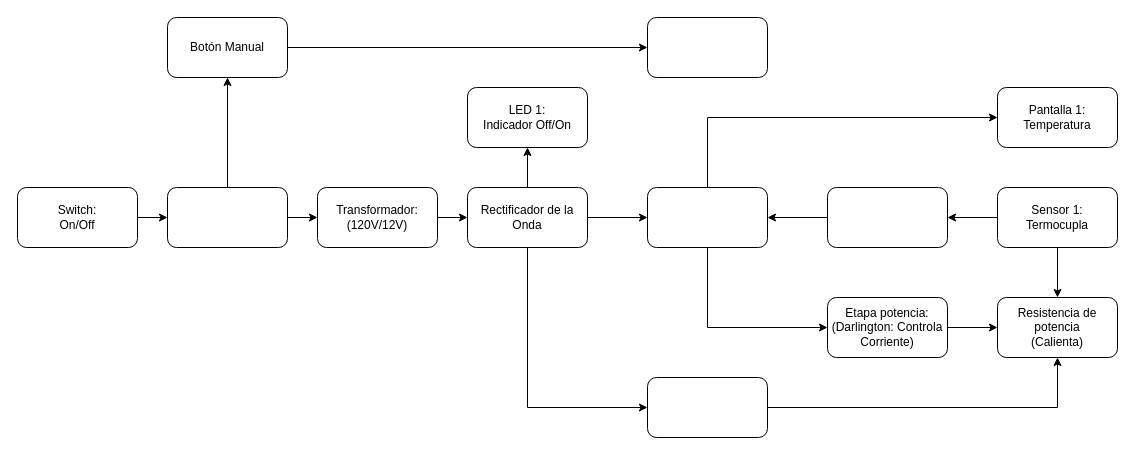
Image size: 1135x455. Some labels were removed from this diagram. The shapes that lost their labels are listed below. From the top down, each one's centre as x and y in pixels, then its label:
At point 707,47: "Aspiradora".
At point 227,217: "Fuente AC 120 VAC".
At point 707,217: "Arduino UNO (controlador)".
At point 887,217: "Amplificador Etapa Potencia".
At point 707,407: "Fuente Polarización Resistencia Térmica".
